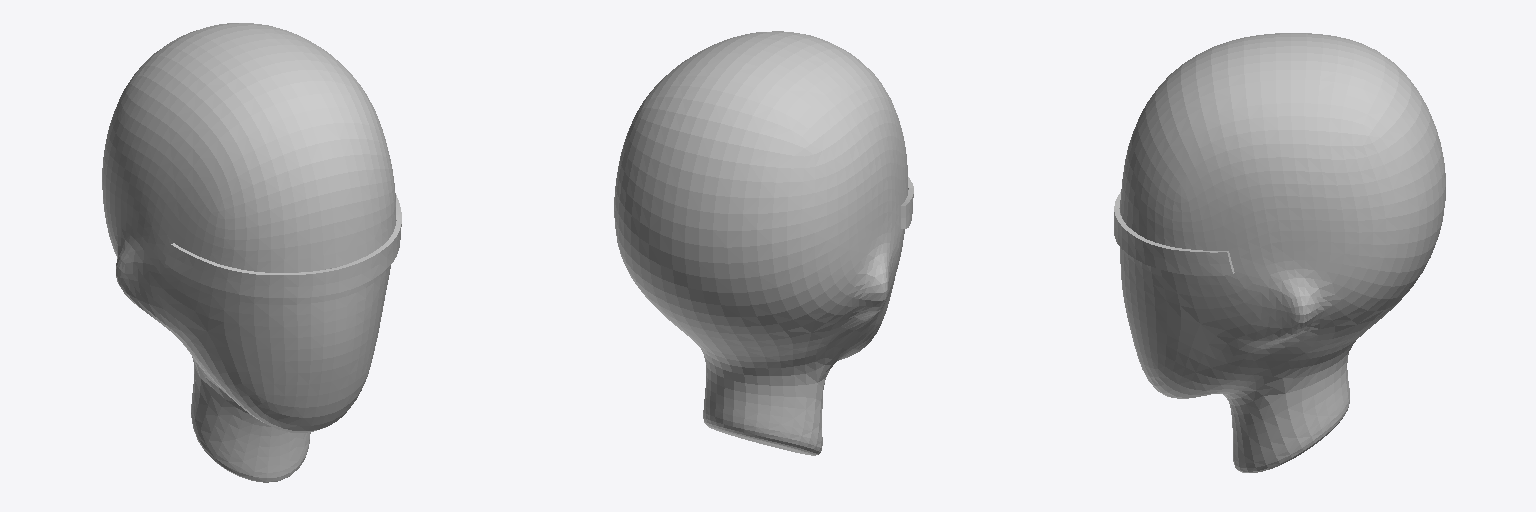
File: Lowpoly Model.OBJ
The picture shows the model from 3 angles: view 1: azimuth 30°, elevation 25°; view 2: azimuth 150°, elevation 25°; view 3: azimuth 270°, elevation 25°; orthographic projection.
Visible parts, largest first — view 1: Group50492, Group63081, Group63084; view 2: Group50492; view 3: Group50492, Group63081.
Boxes of the visible parts, <box> form: Group50492: <box>102,23,396,482</box>; Group63081: <box>165,224,401,297</box>; Group63084: <box>171,195,401,274</box>; Group50492: <box>614,31,908,455</box>; Group50492: <box>1120,33,1445,472</box>; Group63081: <box>1114,208,1232,275</box>.
Size of the model in its own units: 1.24 by 1.93 by 1.39.